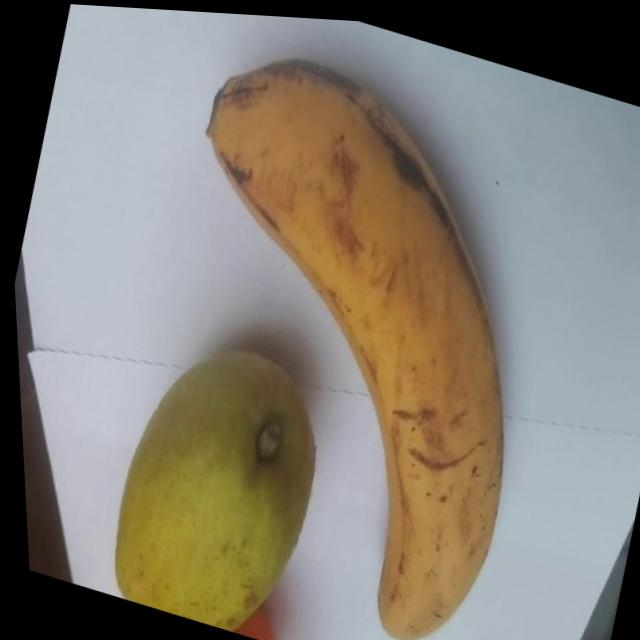Banana: (102, 34, 593, 640)
